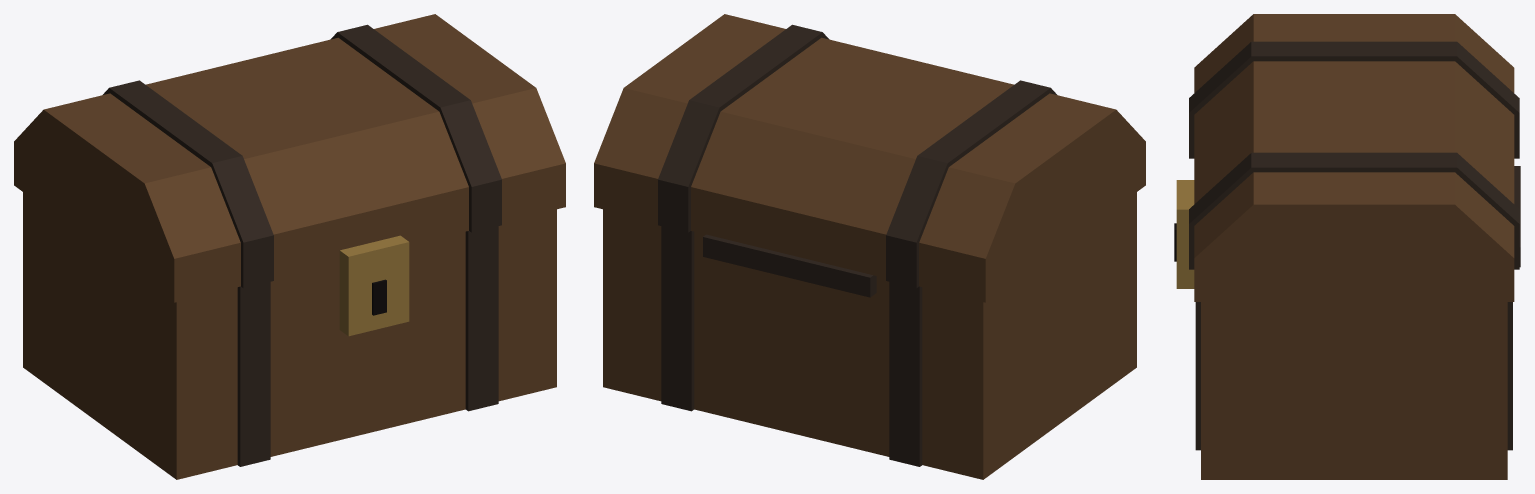
The model's file is chest_beggar.glb.
3 views of the same model, side by side, from view 1: azimuth 30°, elevation 25°; view 2: azimuth 150°, elevation 25°; view 3: azimuth 270°, elevation 25° (orthographic).
Visible parts, largest first — view 1: lid, base, lock; view 2: lid, base; view 3: lid, base, lock.
Boxes of the visible parts, <box> form: lid: <box>14,14,565,302</box>; base: <box>23,192,556,479</box>; lock: <box>339,235,409,336</box>; lid: <box>594,14,1145,302</box>; base: <box>603,192,1136,479</box>; lid: <box>1189,14,1519,301</box>; base: <box>1195,166,1520,479</box>; lock: <box>1174,180,1194,288</box>.
Size of the model in its own units: 1.03 by 0.712 by 0.791.
